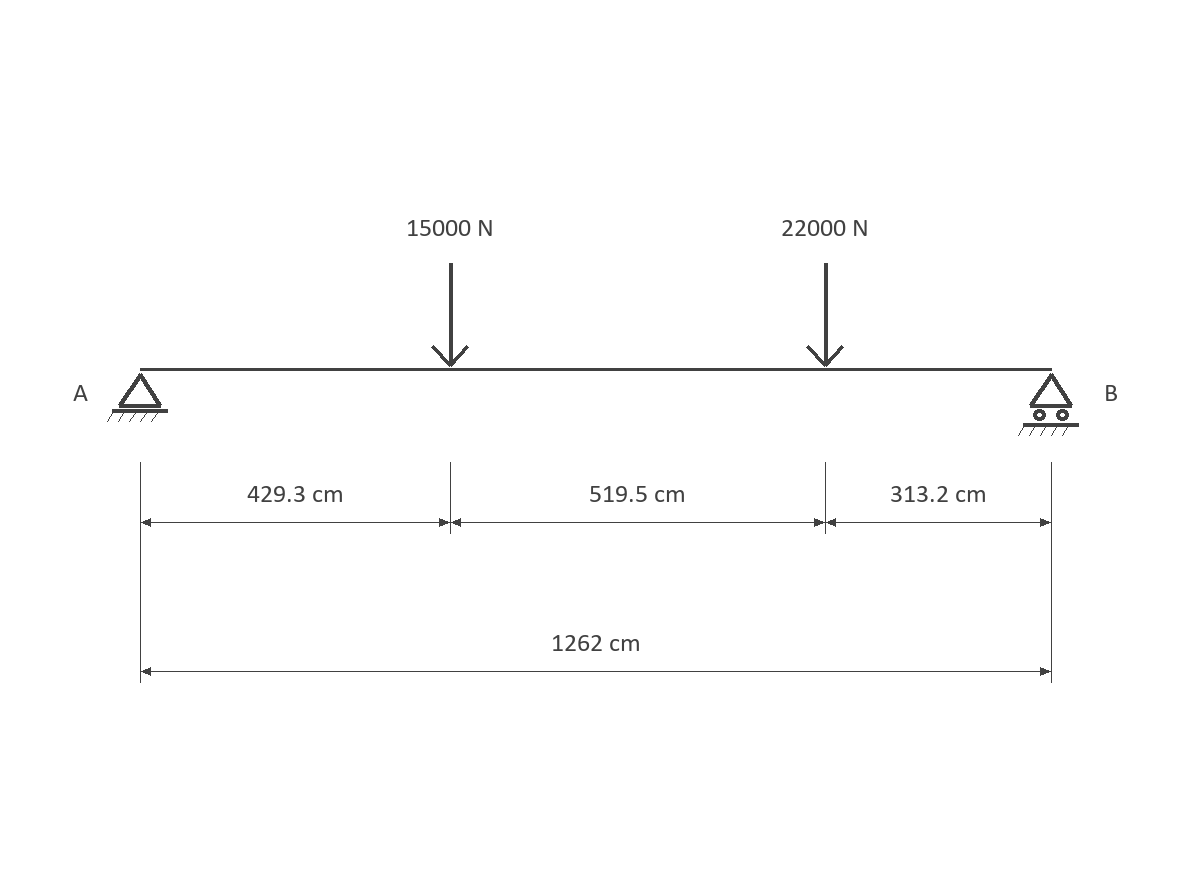pin_support: (107, 373, 168, 422)
point_load: (431, 263, 469, 367), (806, 263, 844, 367)
roller_support: (1018, 373, 1079, 436)
